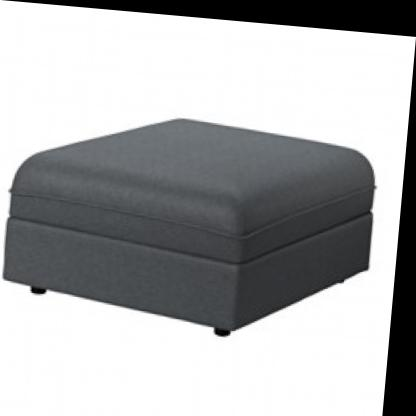Sofa: (0, 81, 389, 357)
